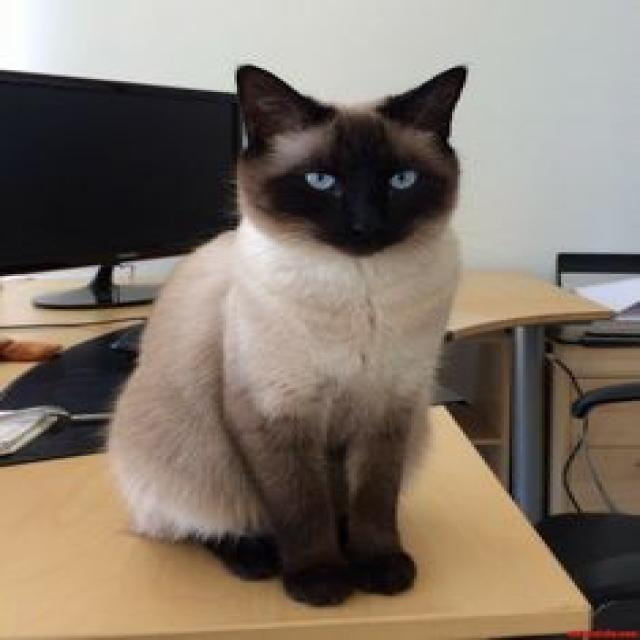da khoe manh: (124, 280, 418, 488)
